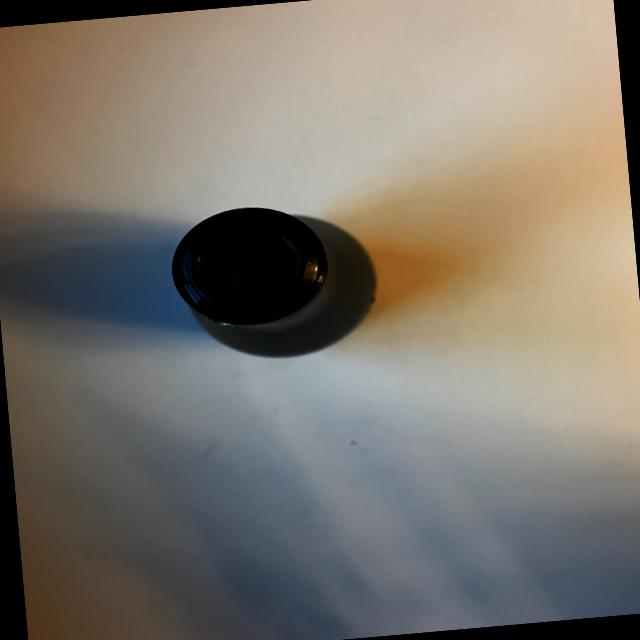Glass: (158, 190, 392, 375)
